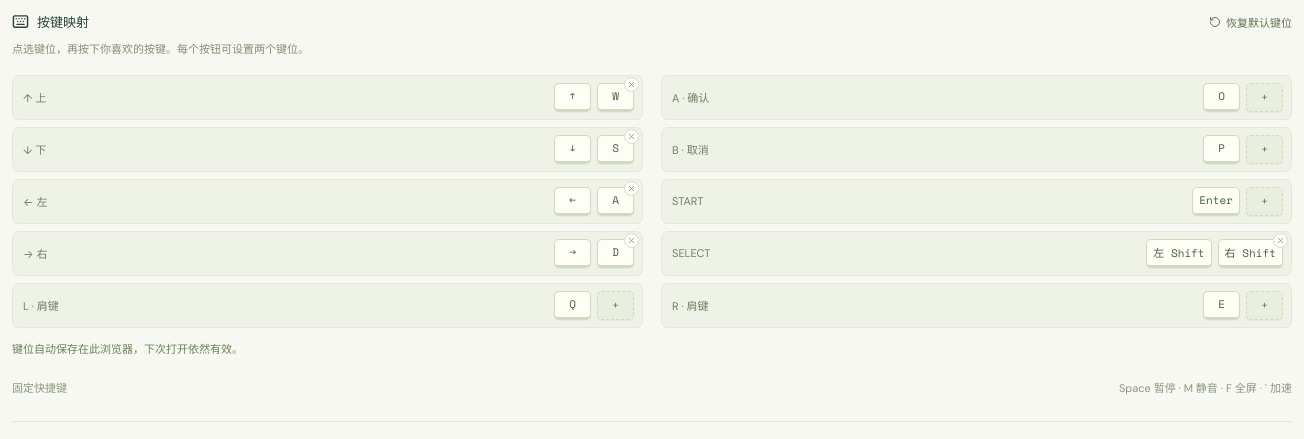
Test case: KeyBindings component › enters capture state on slot click and cancels on second click
Step 1. Click the button named "修改 A 主要键位" → (1222, 97), box [1203, 83, 1240, 112]
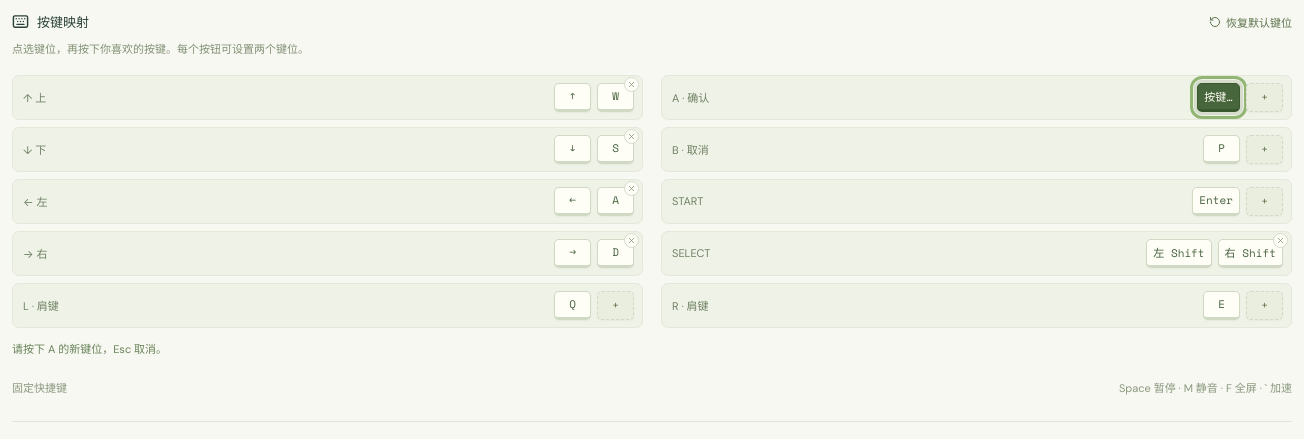
Check: the button with aria-label "修改 A 主要键位" reads "按键…"
Check: the text "请按下 A 的新键位，Esc 取消。" is shown, box [12, 342, 167, 356]
Note: Click again cancels capture
Step 2. Click the button with aria-label "修改 A 主要键位" → (1219, 97), box [1197, 83, 1240, 112]
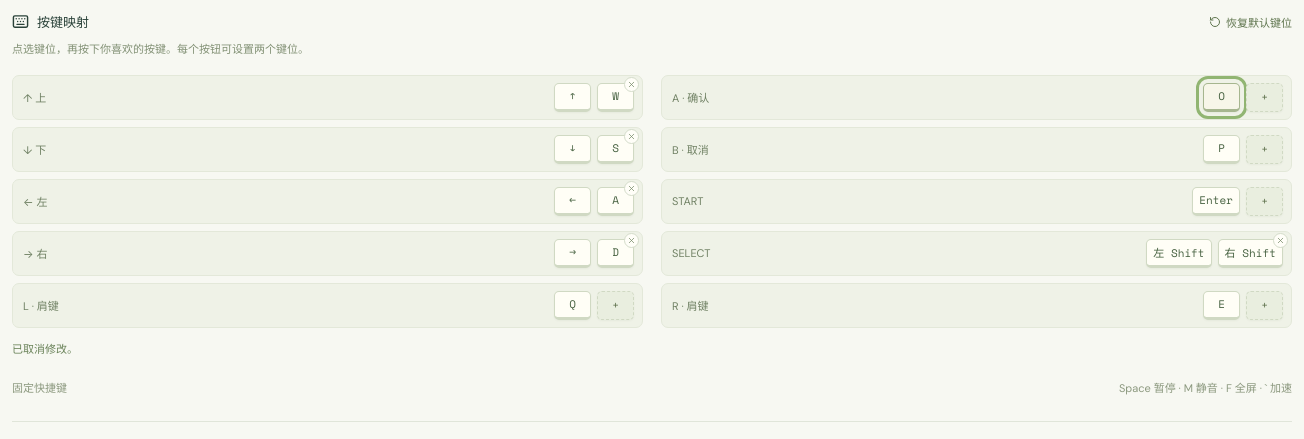
Check: the text "已取消修改。" is shown, box [12, 342, 78, 356]
